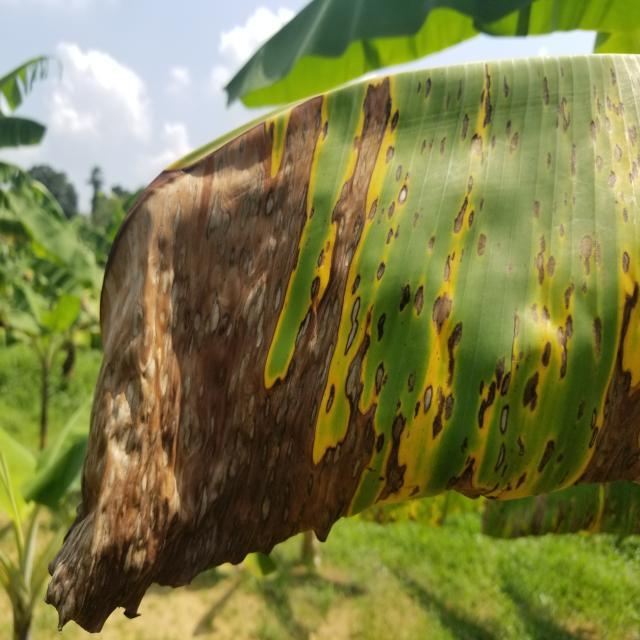Early_rust: (20, 28, 640, 595)
